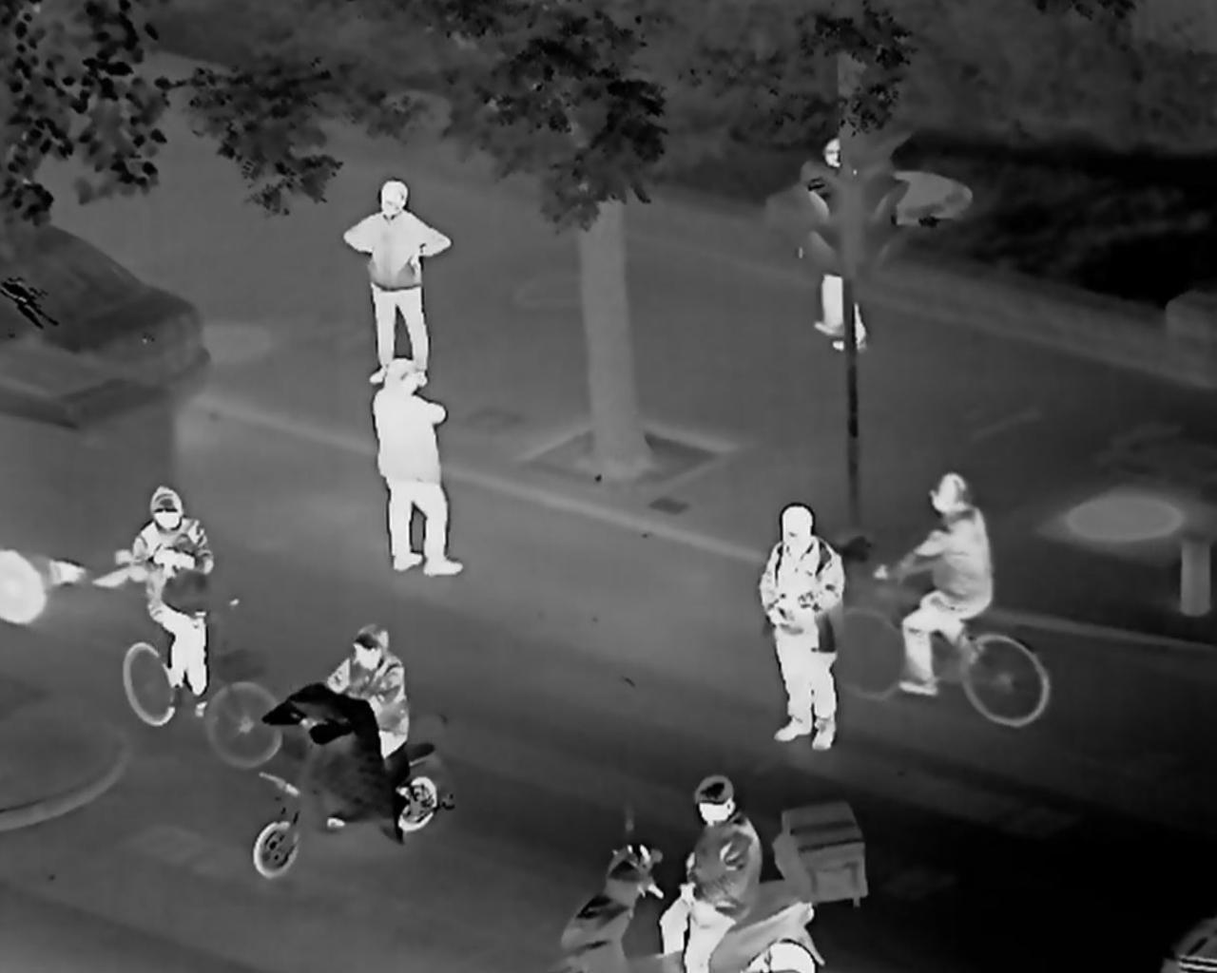person: (738, 496, 852, 770), (125, 494, 245, 709), (329, 172, 461, 367), (366, 368, 473, 581), (905, 455, 994, 695), (677, 764, 773, 973), (316, 622, 438, 761)
